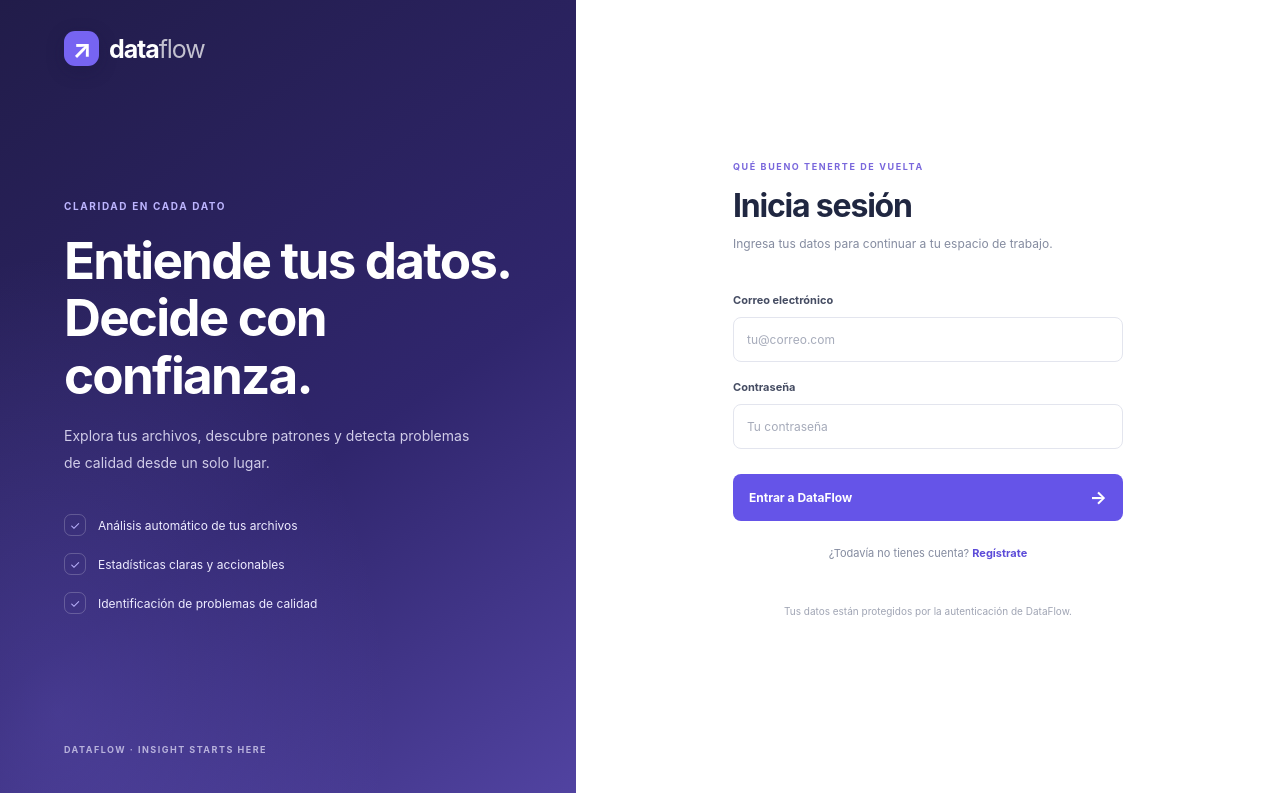
App › informa si el análisis anterior falló sin reintentarlo
Type "test@dataflow.com" into the field labelled "Correo electrónico" at (928, 340), box [733, 317, 1123, 362]
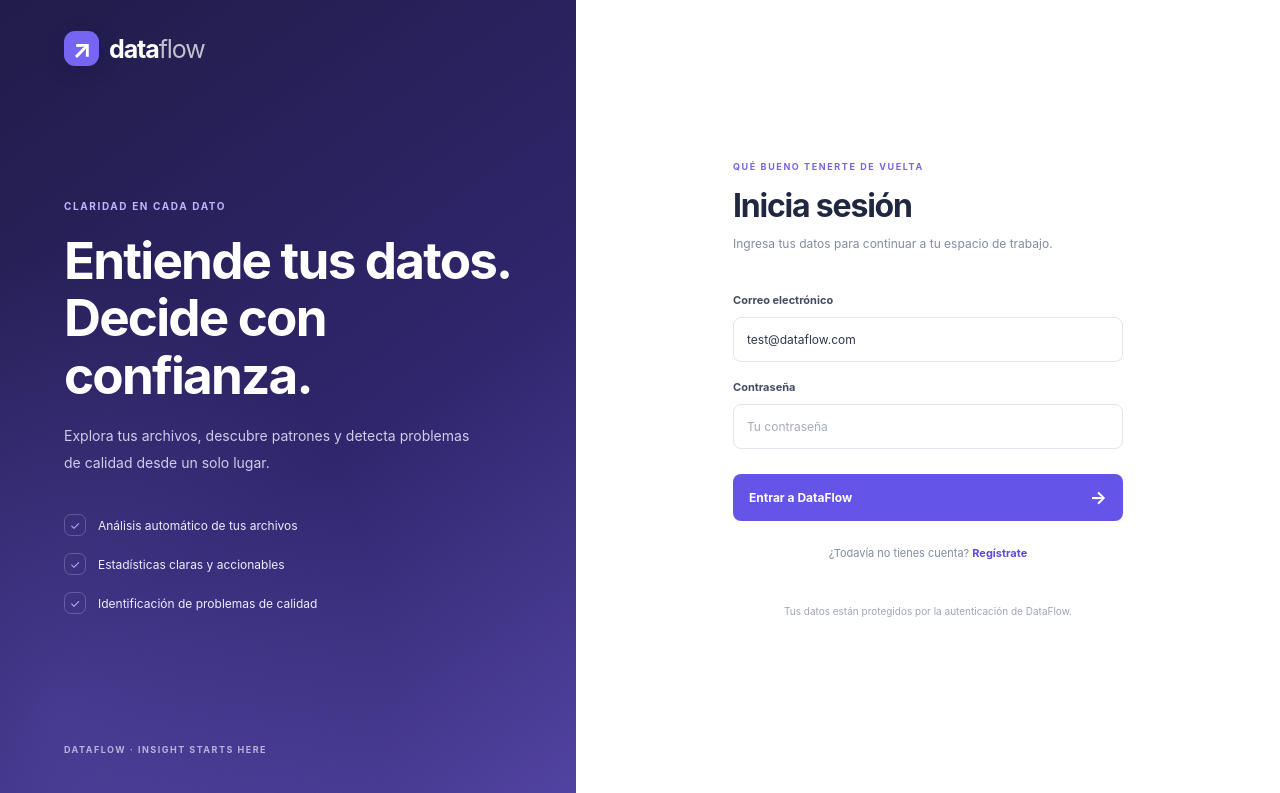
Type "password123" into the password field labelled "Contraseña" at (928, 427), box [733, 404, 1123, 449]
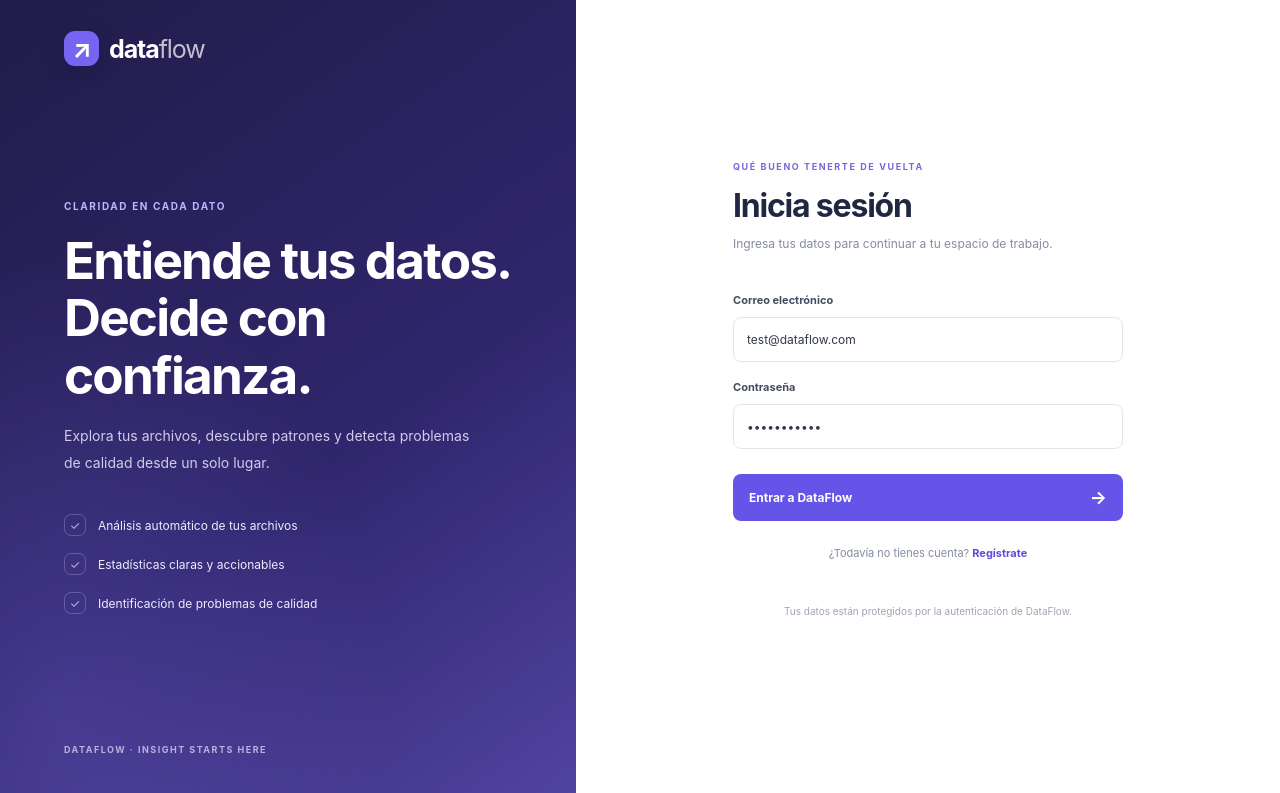
Click the button "Entrar a DataFlow →" at (801, 498), box [733, 474, 1123, 521]
(page scrolled)
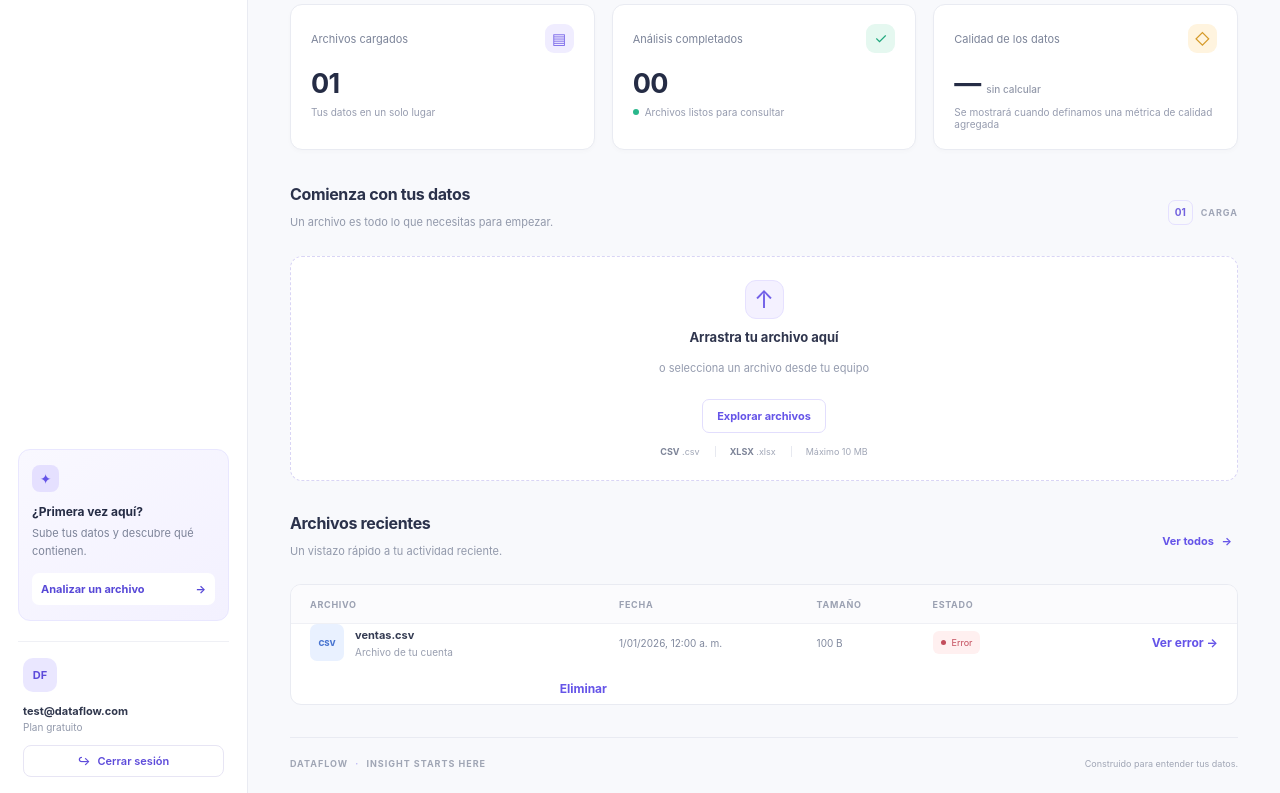
Click the button "Ver error →" at (1181, 643), box [1144, 627, 1218, 658]
(page scrolled)
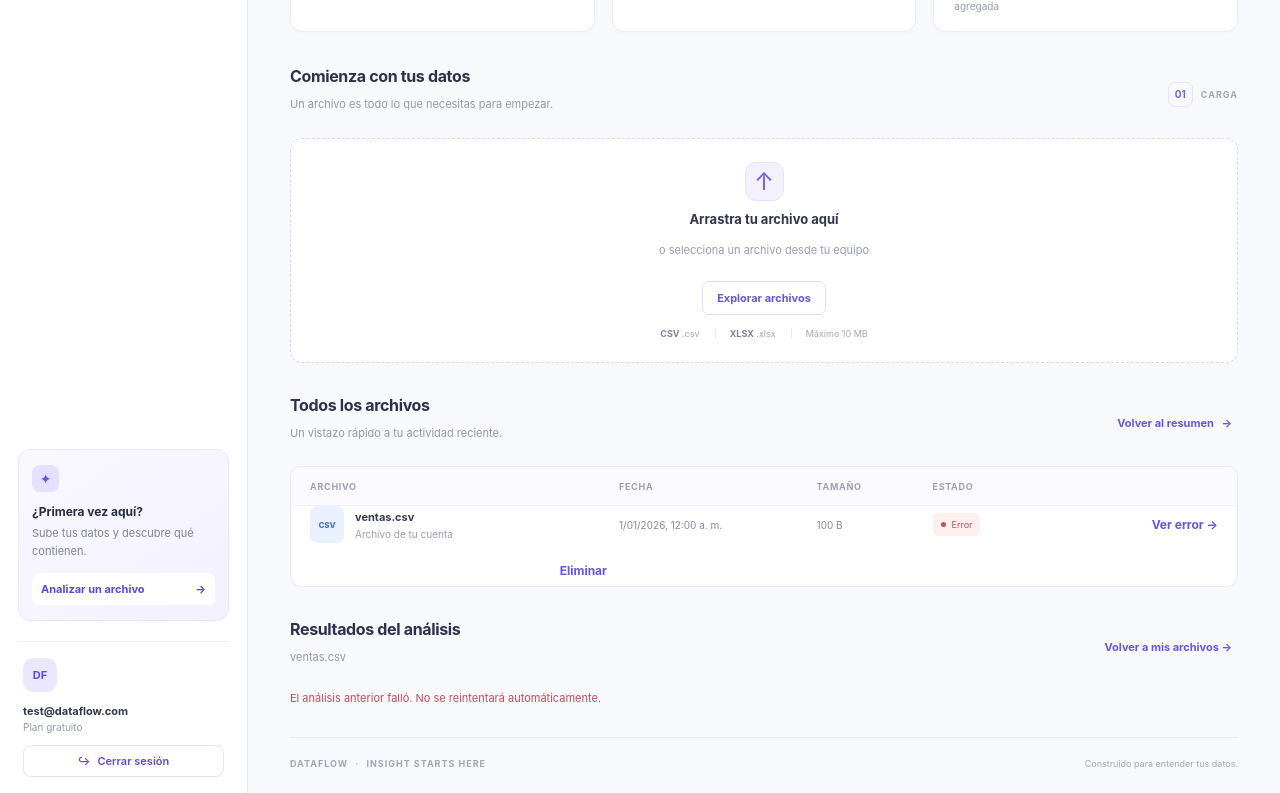
Expected: the message reads "El análisis anterior falló. No se reintentará automáticamente.", [290, 691, 601, 705]
